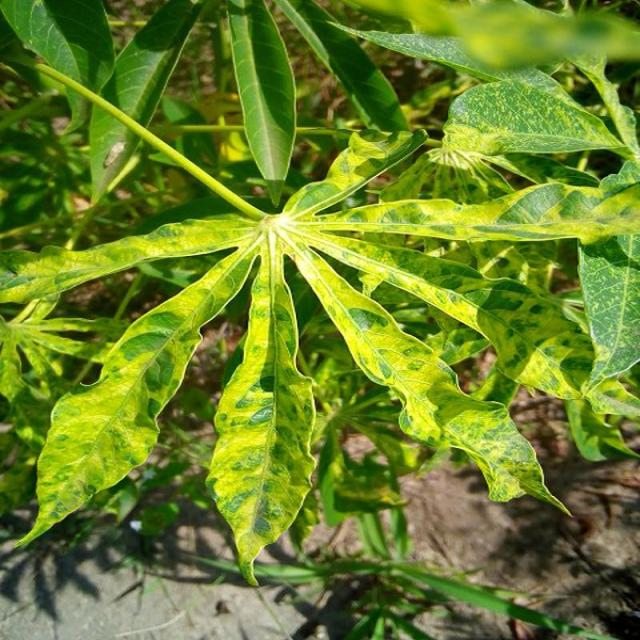cassava leaf: (2, 1, 640, 587)
